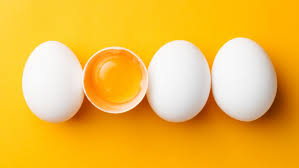eggs: (215, 36, 279, 127), (20, 34, 83, 125), (148, 36, 209, 126)
